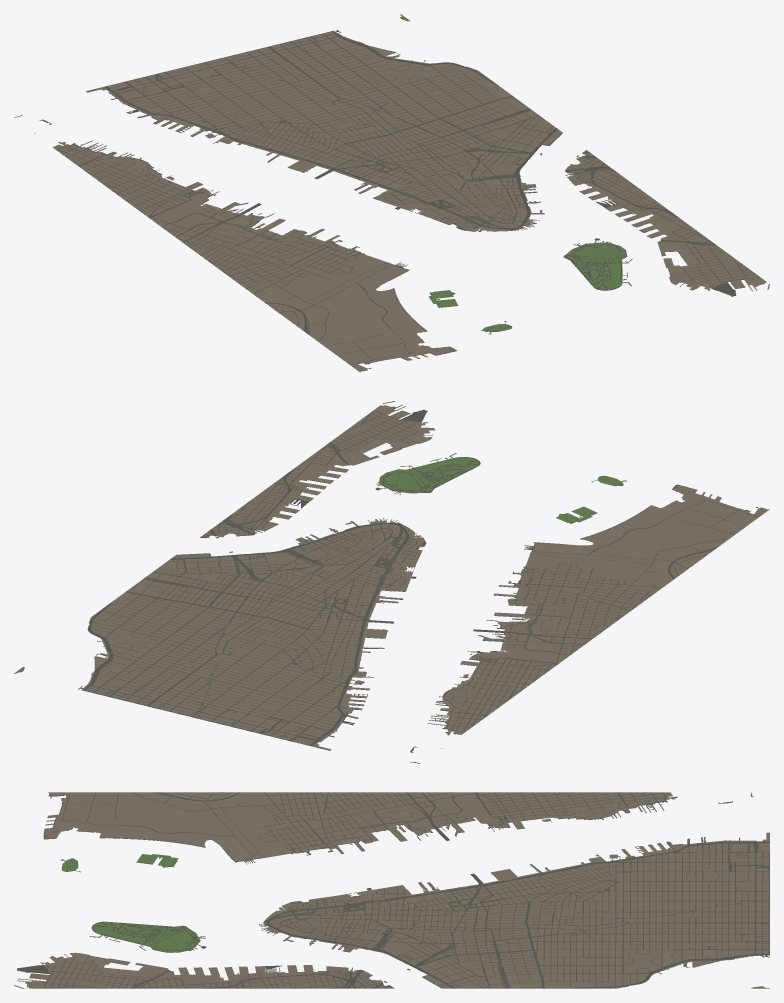
File: land.glb
The picture shows the model from 3 angles, top to bottom: view 1: azimuth 30°, elevation 25°; view 2: azimuth 150°, elevation 25°; view 3: azimuth 270°, elevation 25°; orthographic projection.
Visible parts, largest first — view 1: HB_land; view 2: HB_land; view 3: HB_land.
Boxes of the visible parts, x1,y1,x2,y2 form: HB_land: (14, 14, 769, 372); HB_land: (14, 401, 769, 763); HB_land: (14, 792, 769, 988).
Size of the model in its own units: 5550 by 4.41 by 9030.
4 materials, 3 textured.
